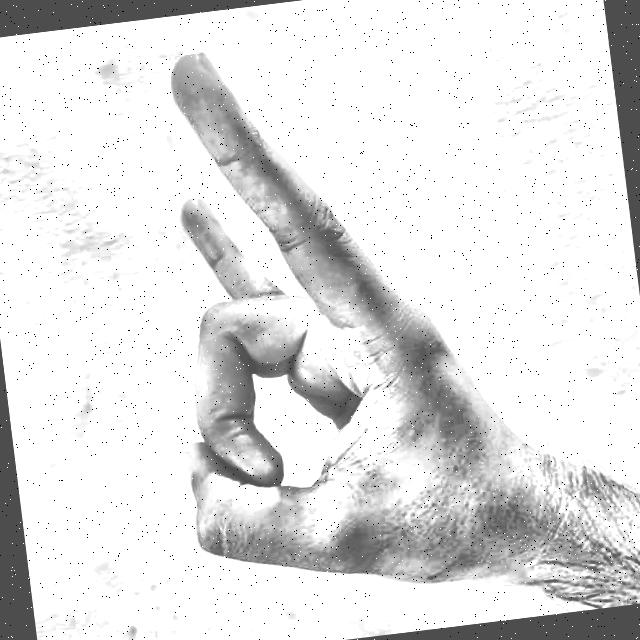Cha: (61, 0, 553, 640)
